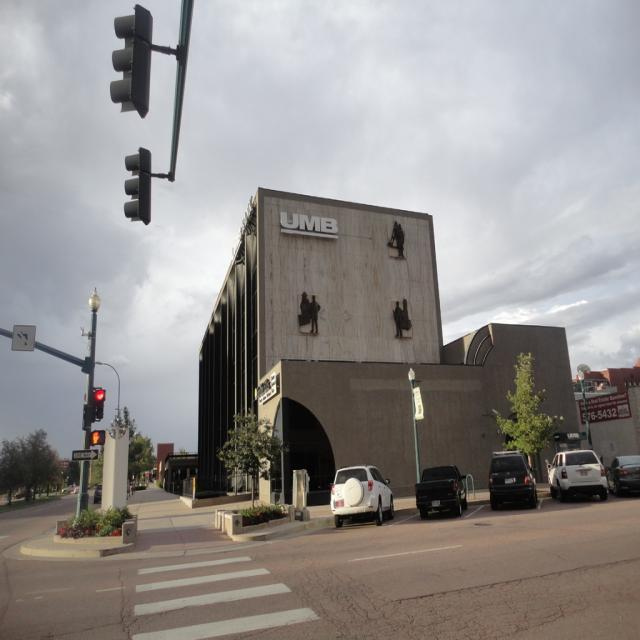off traffic light: (109, 5, 156, 112), (120, 144, 153, 225), (91, 385, 106, 423)
